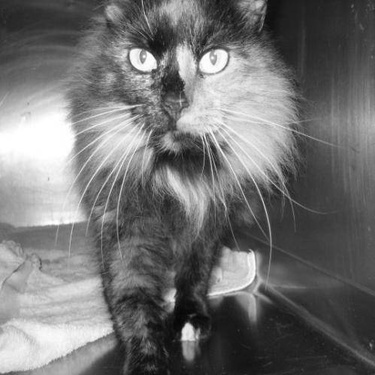cat: (61, 1, 301, 366)
